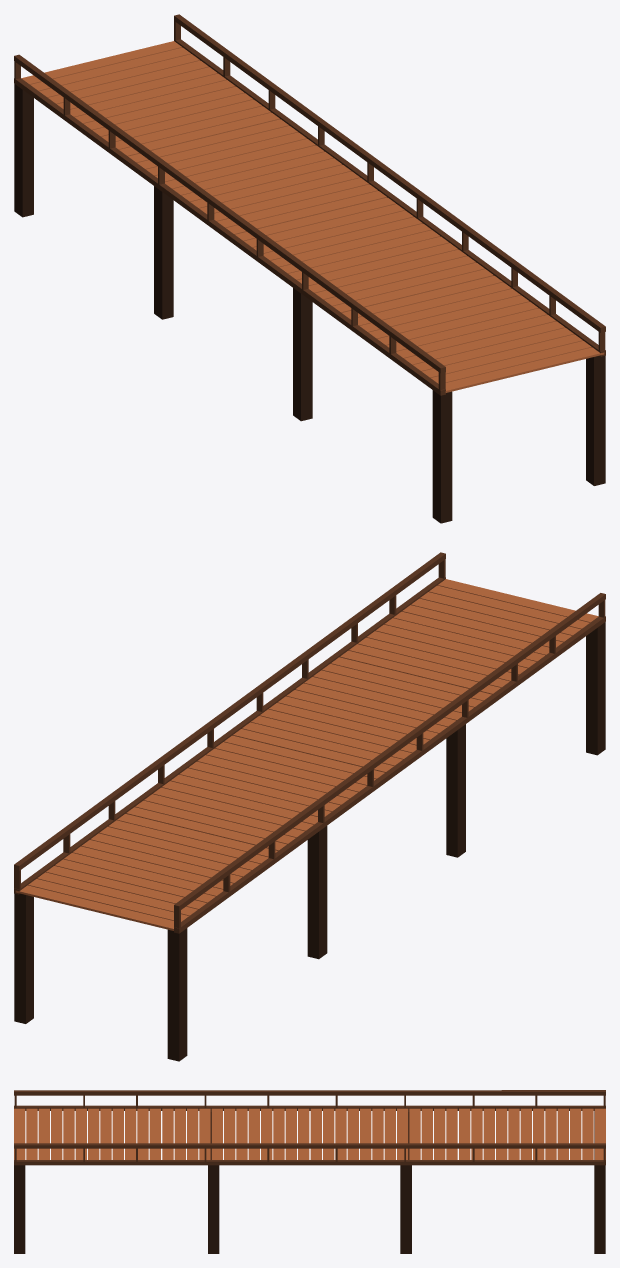
Rendered from Bridge.fbx.
3 renders of one model, top to bottom at view 1: azimuth 30°, elevation 25°; view 2: azimuth 150°, elevation 25°; view 3: azimuth 270°, elevation 25°, orthographic. The views are drawn at different scales.
Visible parts, largest first — view 1: Bridge; view 2: Bridge; view 3: Bridge.
Boxes of the visible parts, x1,y1,x2,y2 form: Bridge: (14,14,605,523); Bridge: (14,552,605,1061); Bridge: (14,1090,605,1253).
Bounding box in the file's own units: 2322 × 2103 × 10379.
